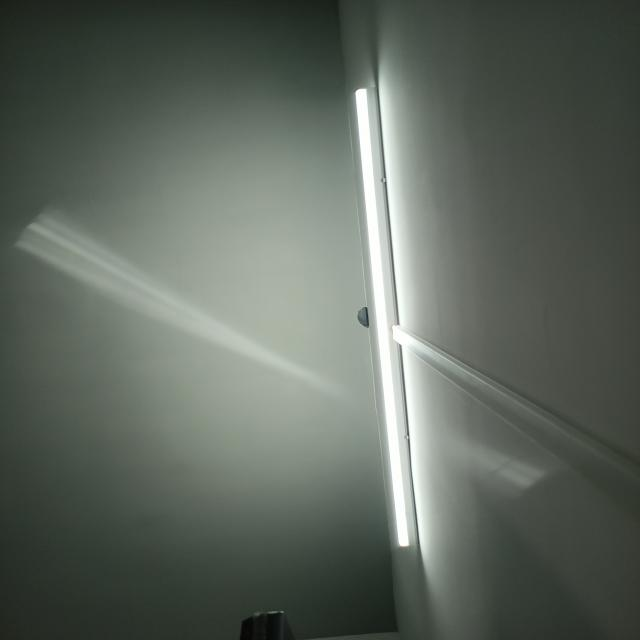light_on: (339, 83, 425, 556)
